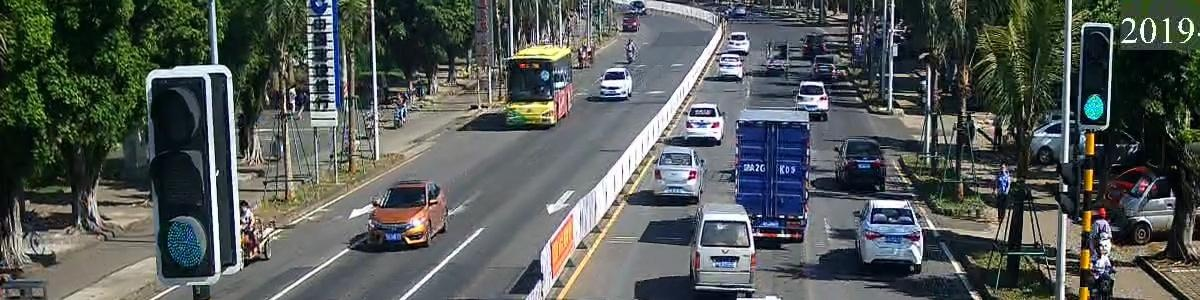green: (149, 213, 231, 280), (1074, 86, 1131, 134)
